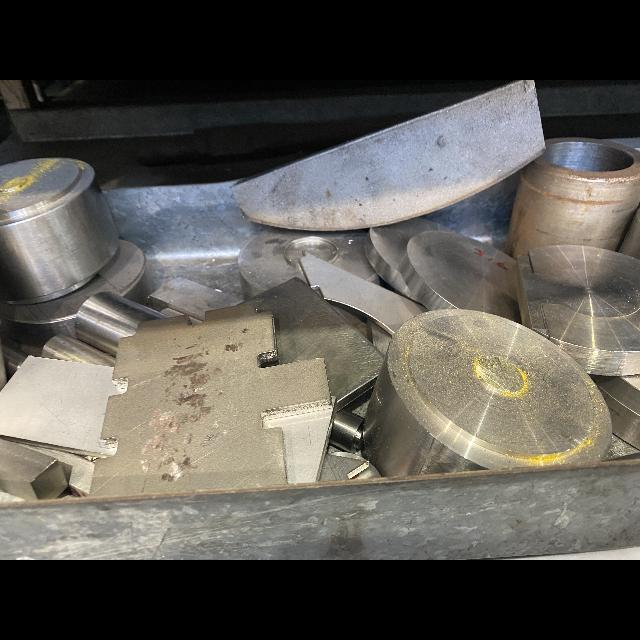Ferrous Metal: (505, 136, 640, 258)
Stainless Steel: (89, 302, 333, 496), (232, 80, 545, 231), (363, 309, 612, 478), (238, 277, 384, 412), (0, 158, 118, 302), (517, 245, 640, 376), (3, 240, 150, 346), (0, 356, 127, 456), (399, 231, 522, 324), (299, 251, 428, 335), (237, 228, 382, 300), (362, 218, 460, 302), (265, 396, 337, 483), (75, 292, 170, 357), (150, 276, 244, 321), (0, 440, 68, 500), (20, 443, 95, 495), (41, 334, 115, 367), (329, 409, 364, 452), (317, 454, 368, 481)
